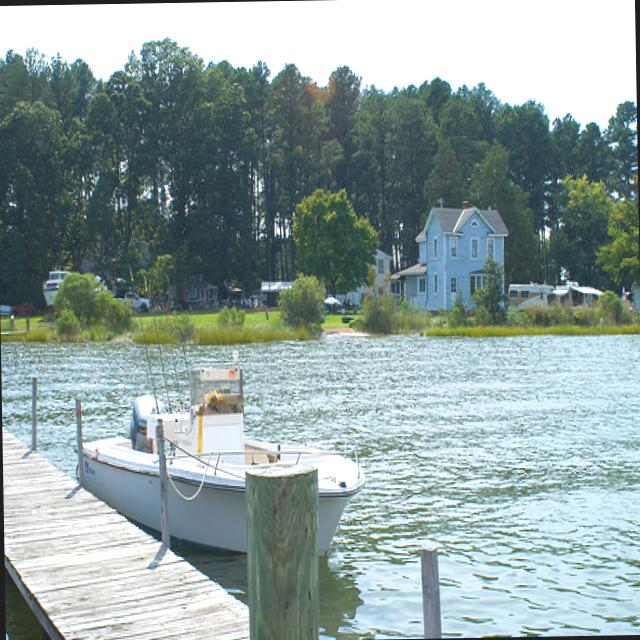Vehicle: (118, 289, 151, 311)
